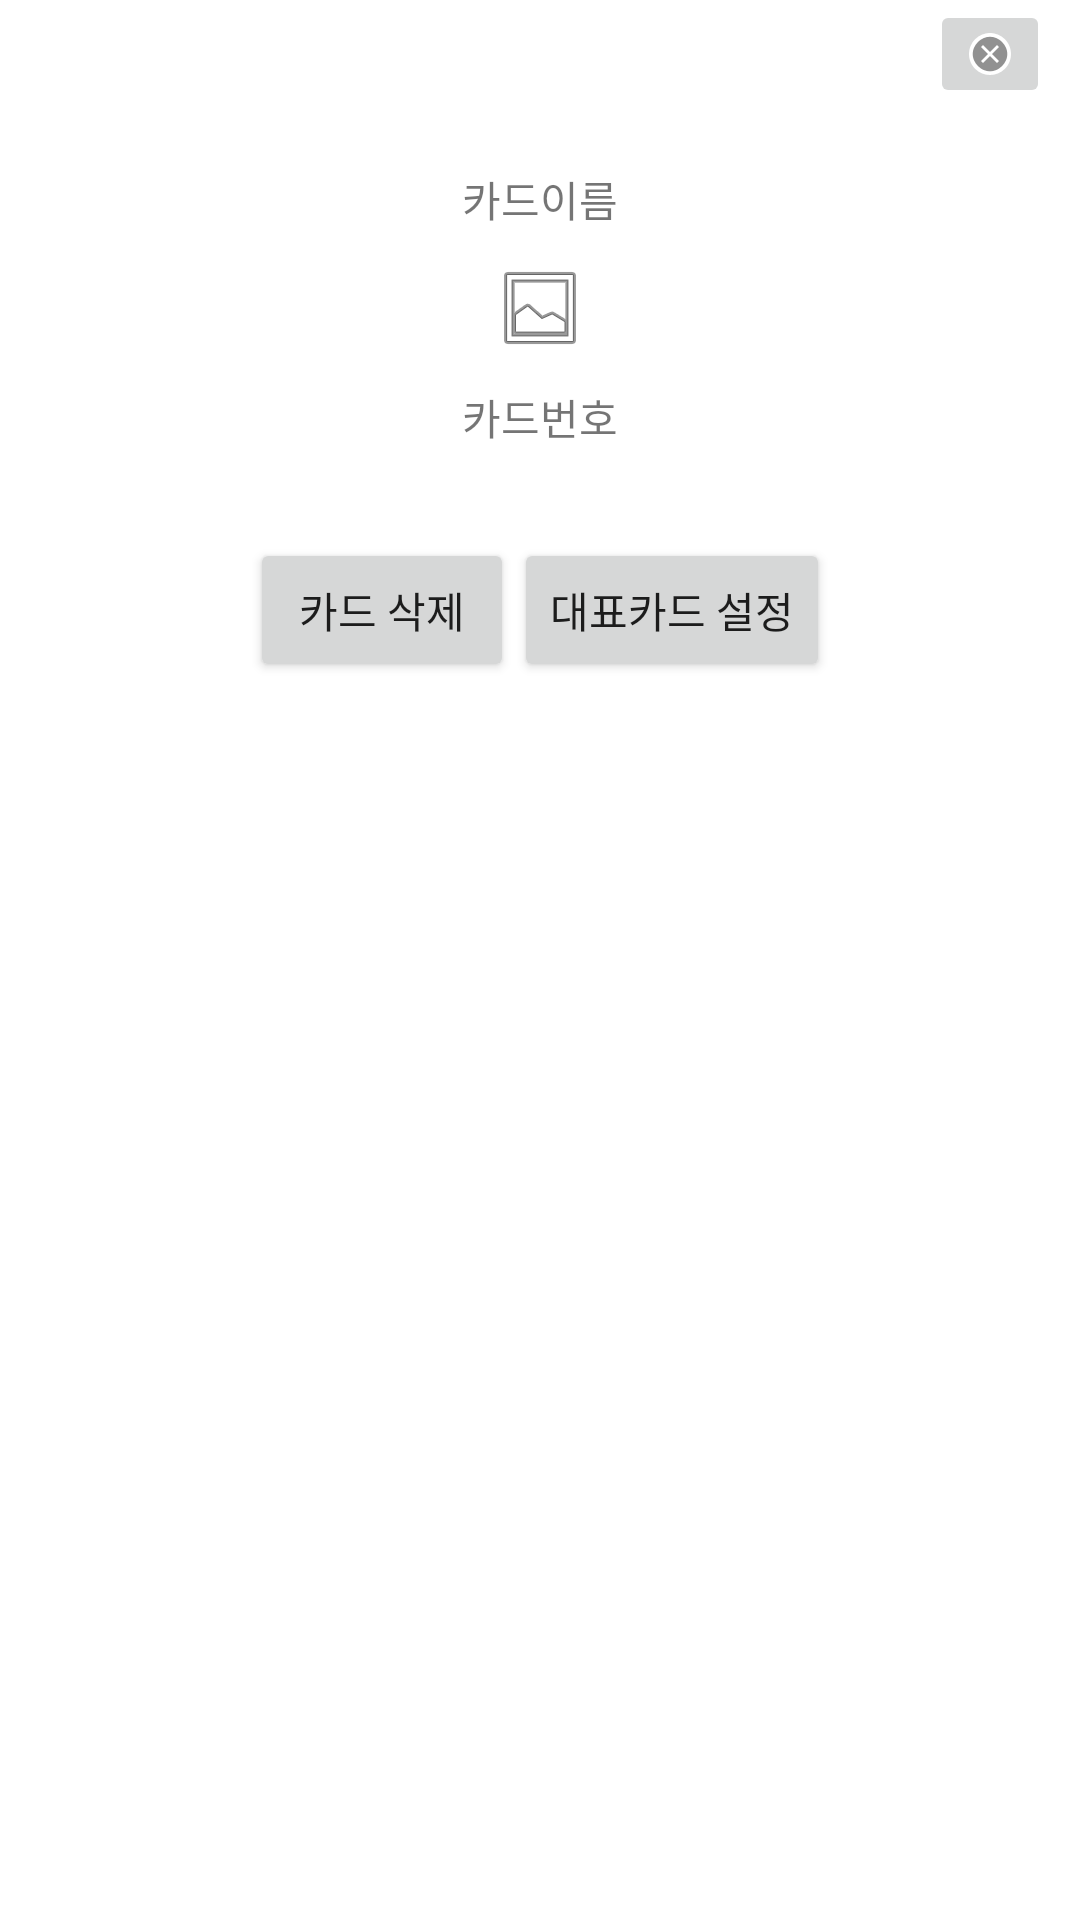

Where to tap for icons on this 1080px x 1920px app screen, as (x=x, y=y):
gallery: (x=540, y=308)
